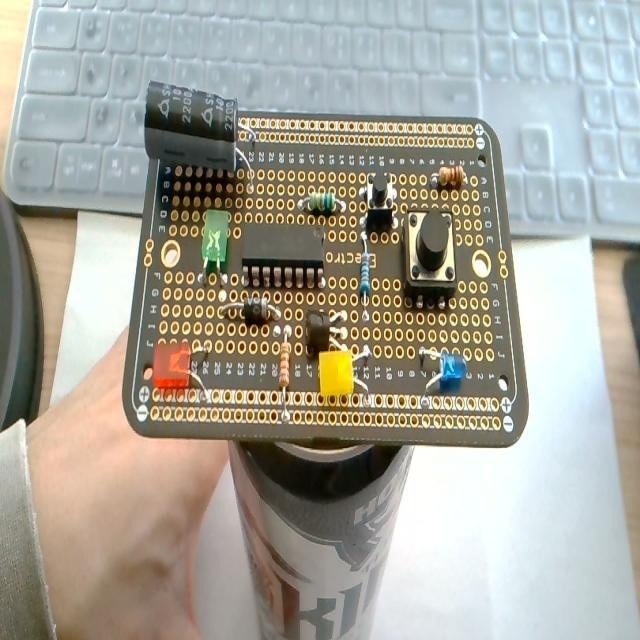Electrolytic capacitor: (148, 65, 262, 181)
IC: (240, 216, 328, 287)
diode: (217, 293, 288, 336)
led: (152, 338, 216, 409), (318, 350, 378, 414), (417, 339, 469, 397), (196, 206, 232, 282)
resistor: (426, 156, 474, 197), (278, 327, 298, 422), (354, 229, 374, 313), (296, 192, 346, 218)
switch: (404, 202, 462, 300), (358, 166, 402, 230)
transistor: (305, 297, 351, 355)
